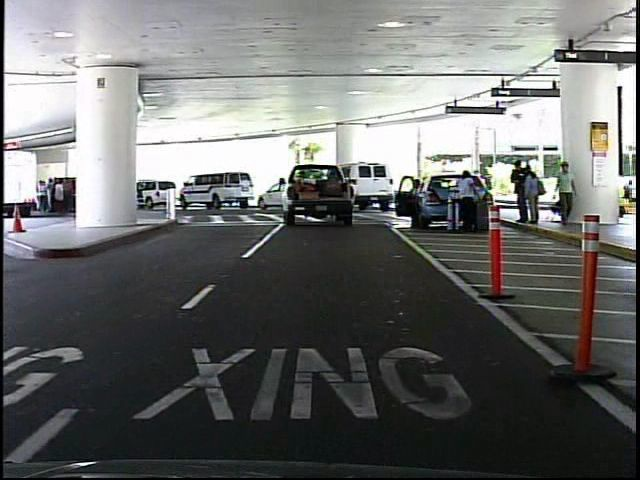person: (451, 165, 482, 237), (551, 159, 577, 229)
